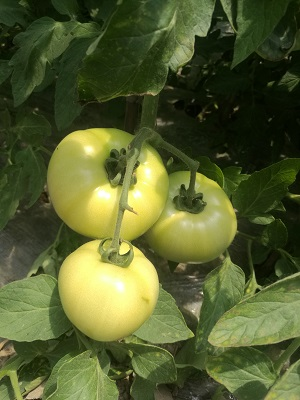immature-tomato: (47, 127, 169, 235), (61, 238, 154, 338), (152, 171, 238, 264)
